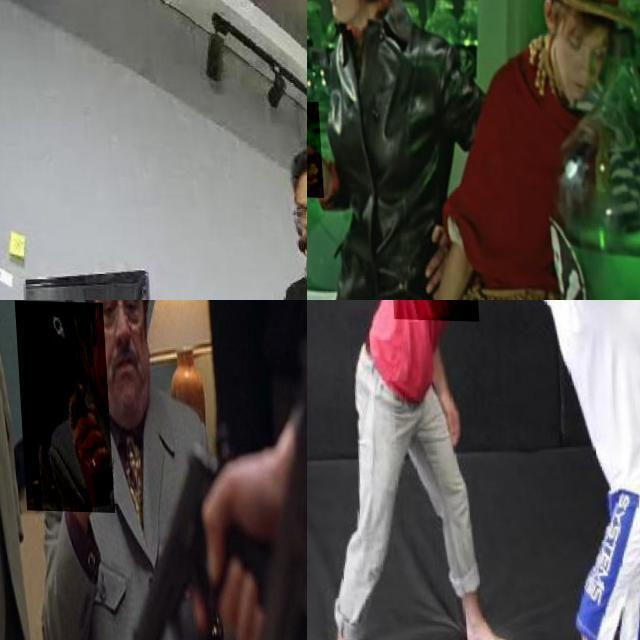-: (386, 300, 476, 353)
gun-knife-thesis - v11 Yolov5 augmented: (109, 416, 259, 640), (233, 300, 307, 640), (13, 300, 111, 510), (0, 300, 83, 512), (0, 300, 52, 539), (307, 98, 354, 196)
